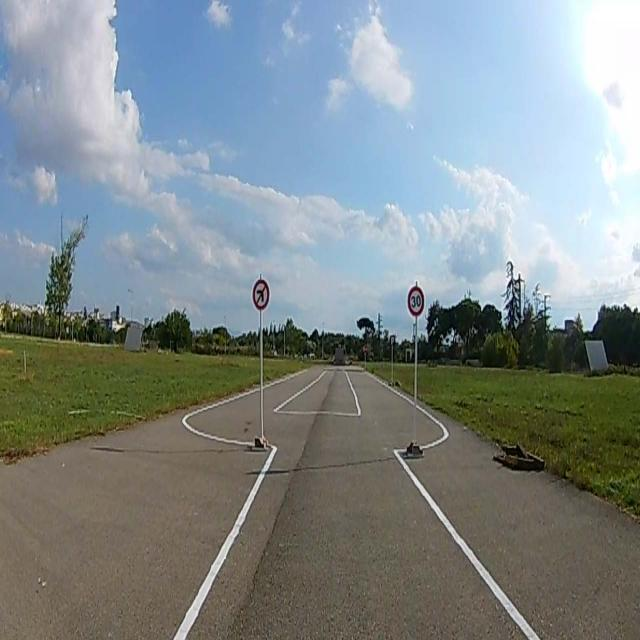30: (410, 286, 424, 314)
soladonulmez: (253, 281, 268, 307)
